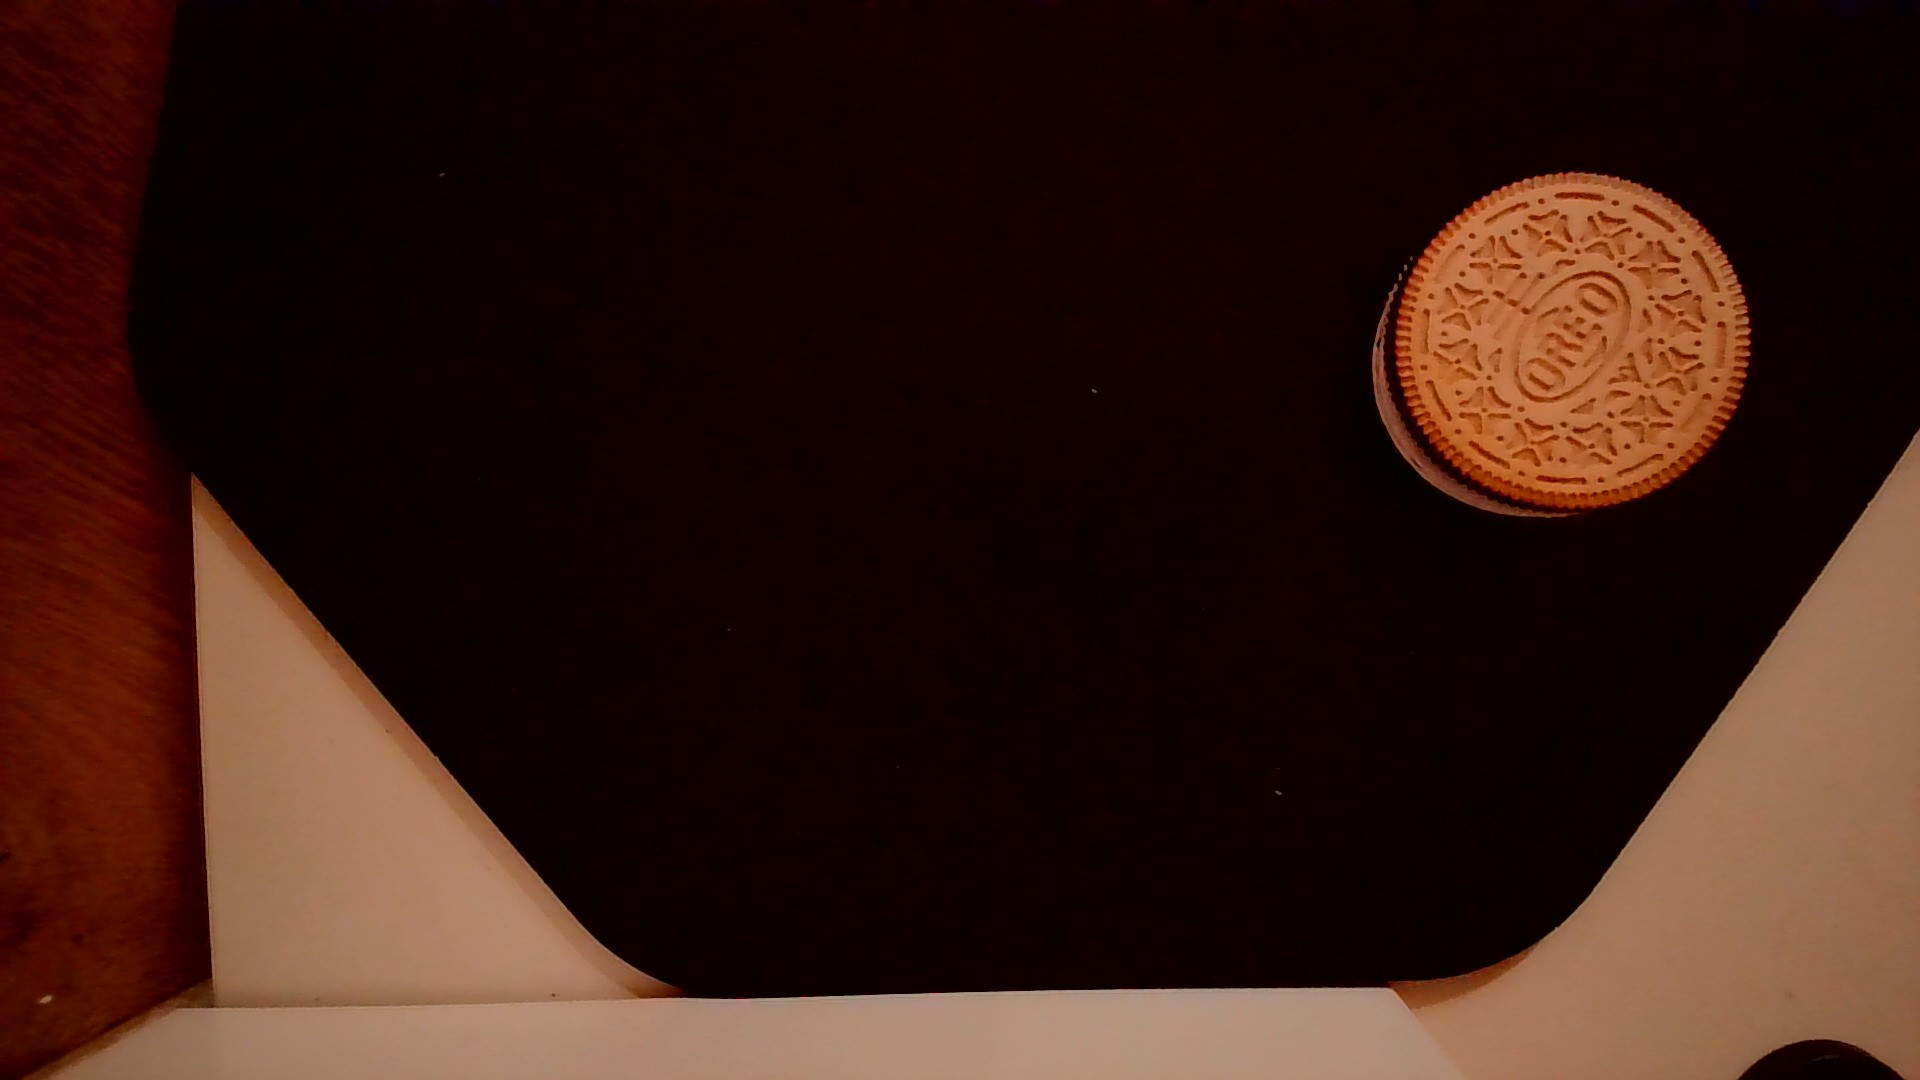Décalé: (1352, 262, 1576, 526)
Oréo: (1361, 164, 1754, 527)
